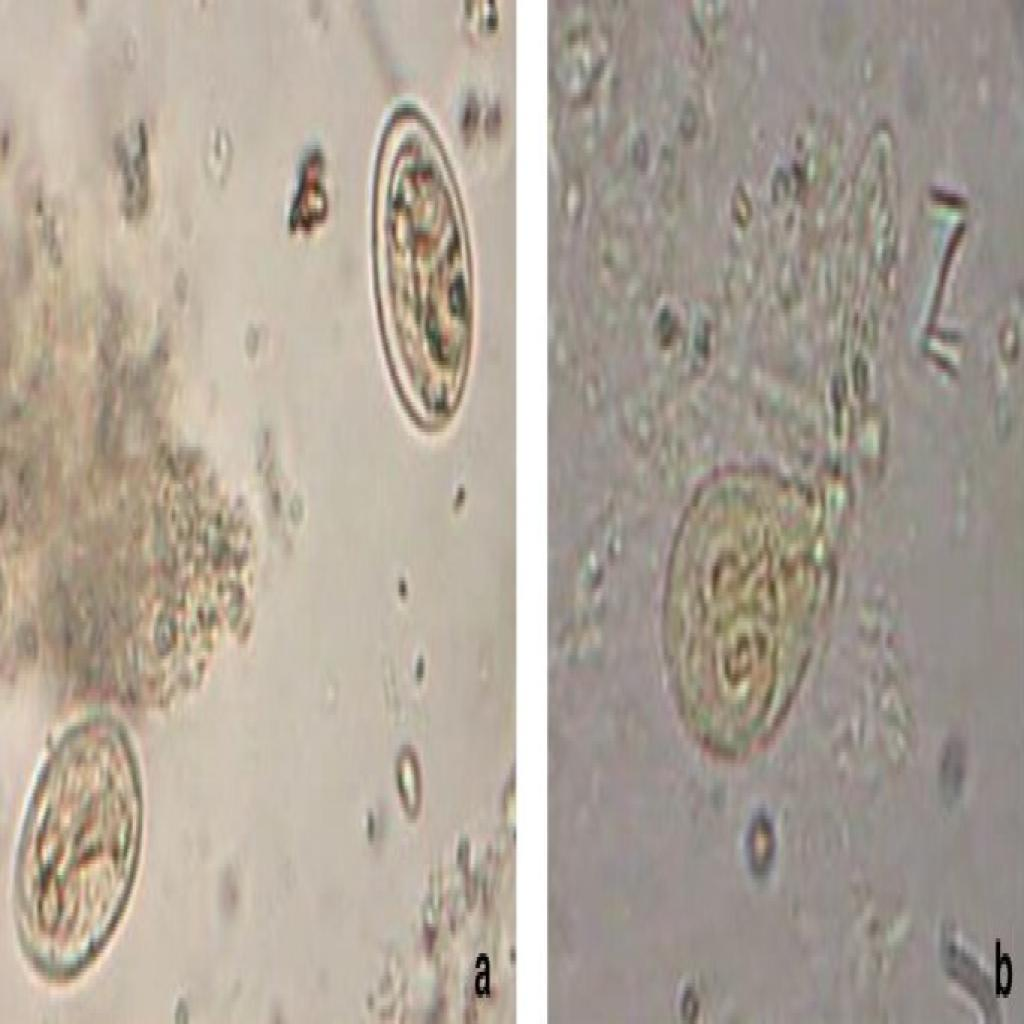Giardia: (656, 451, 855, 778), (365, 89, 478, 443), (12, 700, 145, 998)
